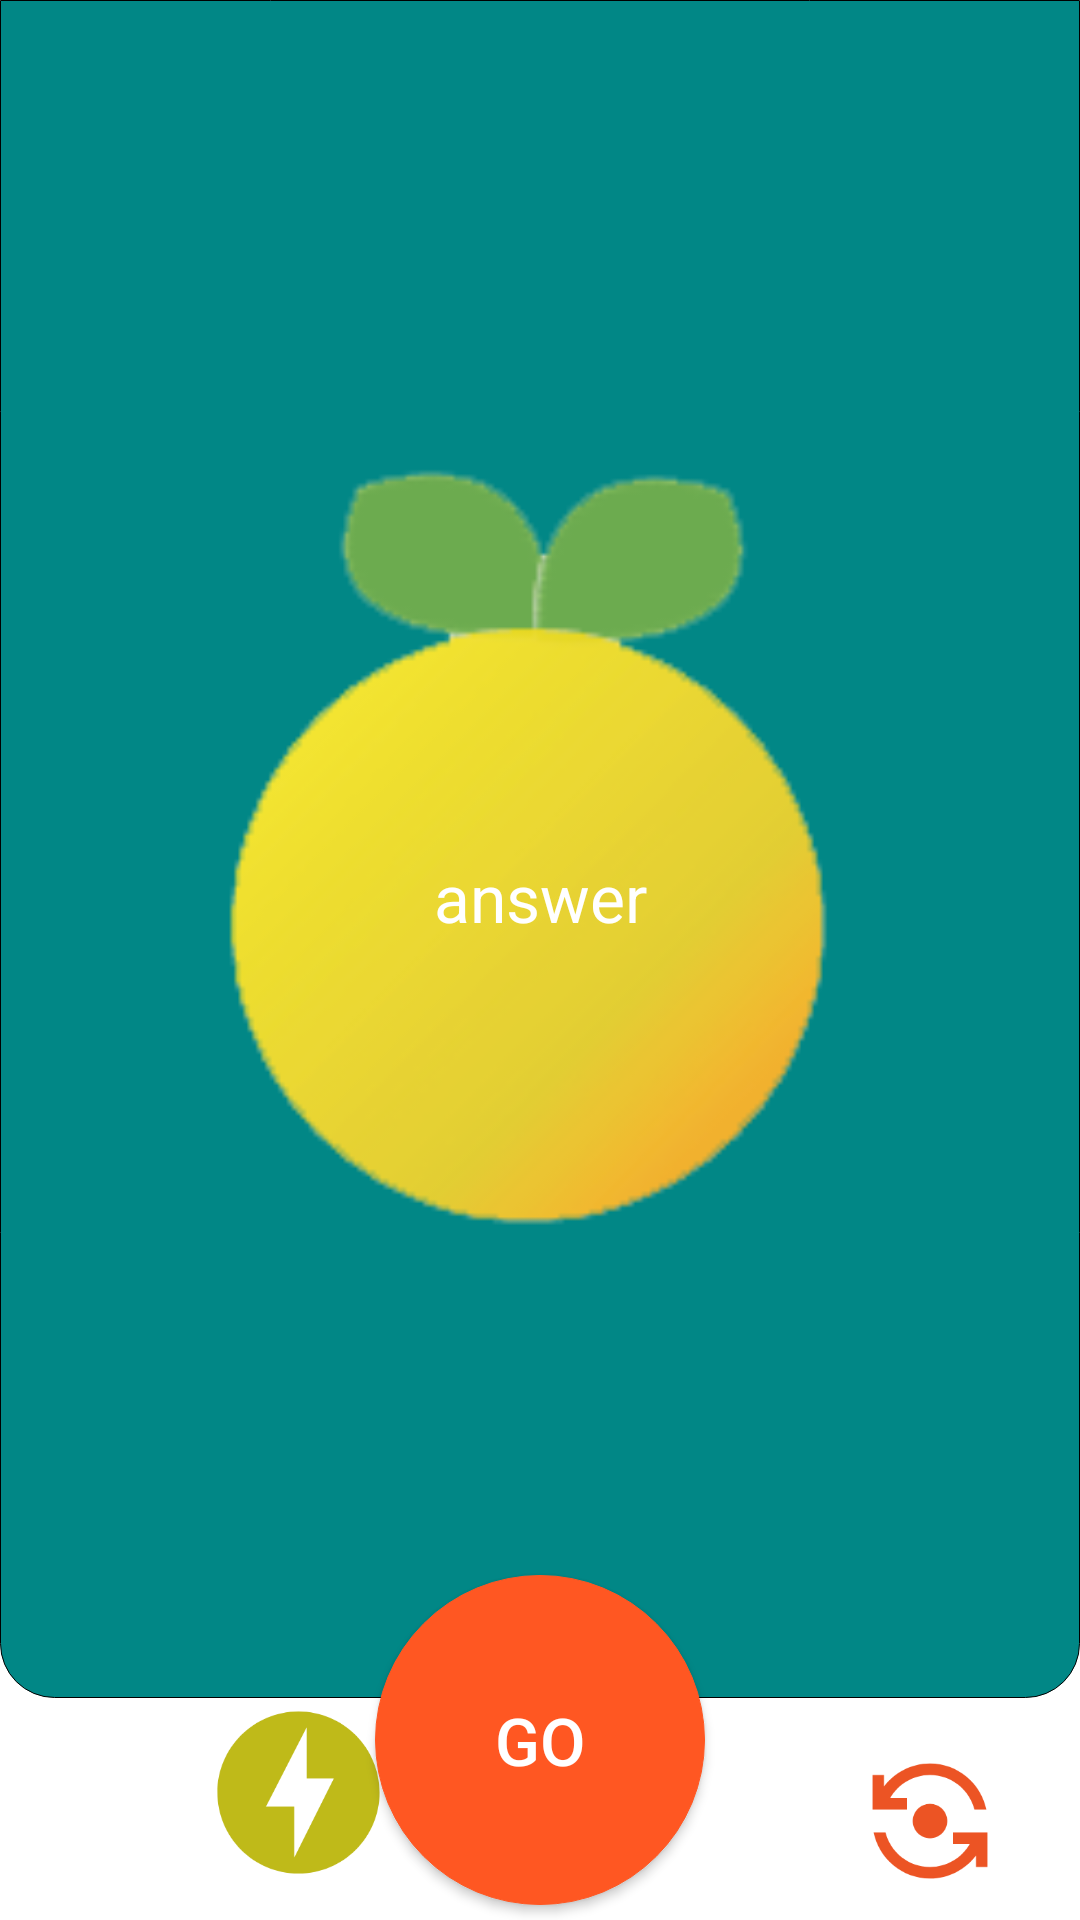

Point at icon controls on the screen. Image size 1080w x 1920h, points as (x=x, y=y).
flip camera android: (x=930, y=1821)
offline bolt: (x=298, y=1792)
